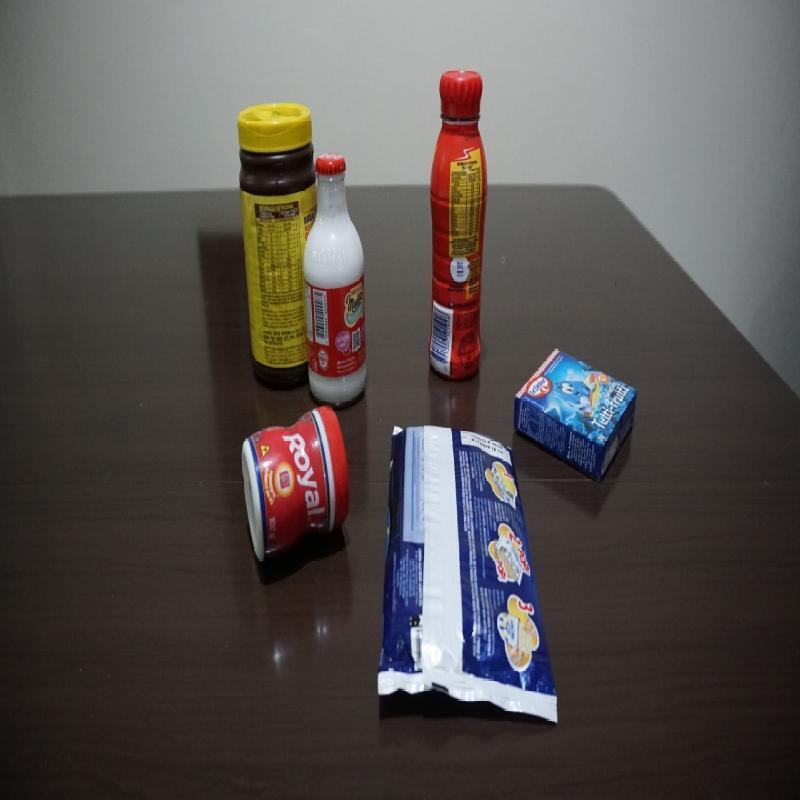Chocolate Milk: (428, 68, 484, 382)
Chocolate Powder: (235, 99, 320, 389)
Coconut Milk: (303, 152, 368, 411)
Gelatine: (512, 345, 640, 484)
Popcorn: (376, 420, 560, 731)
Yeast: (239, 406, 352, 566)
